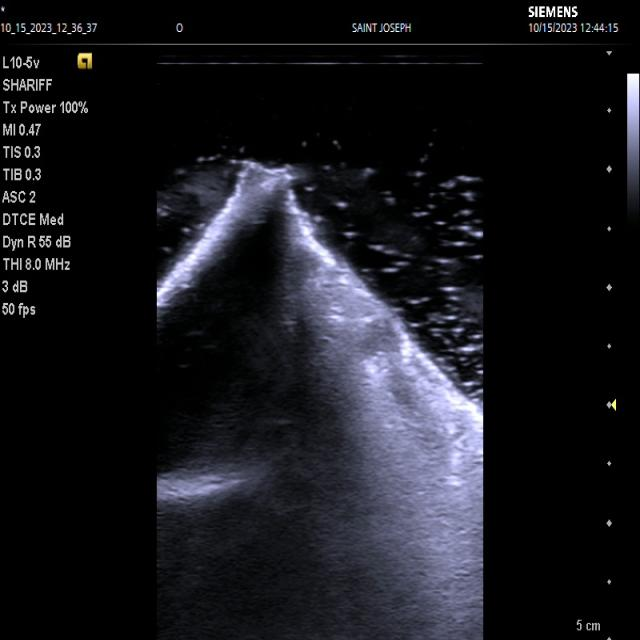tissue: (157, 163, 484, 640)
